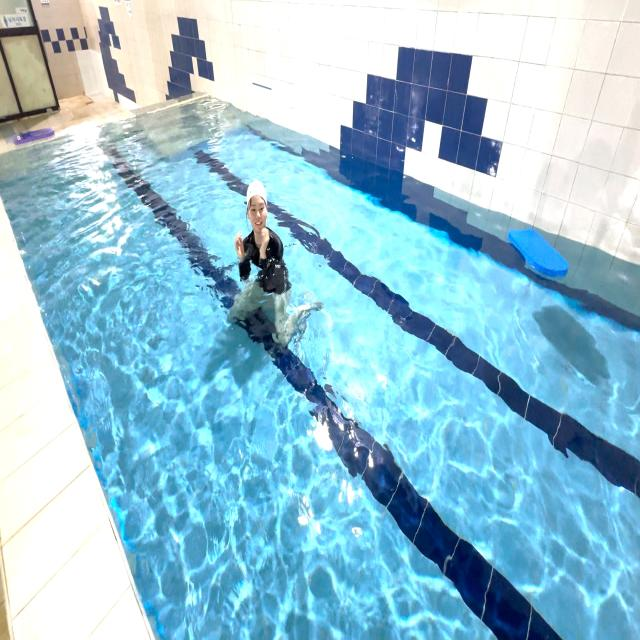Swimming: (206, 158, 330, 380)
